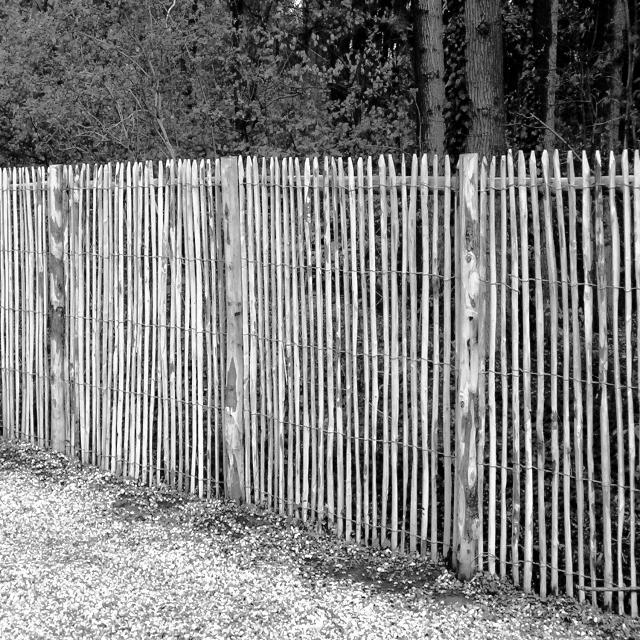fences: (4, 174, 640, 572)
